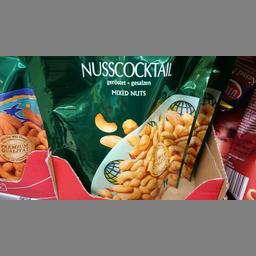nuts: (18, 56, 217, 198)
